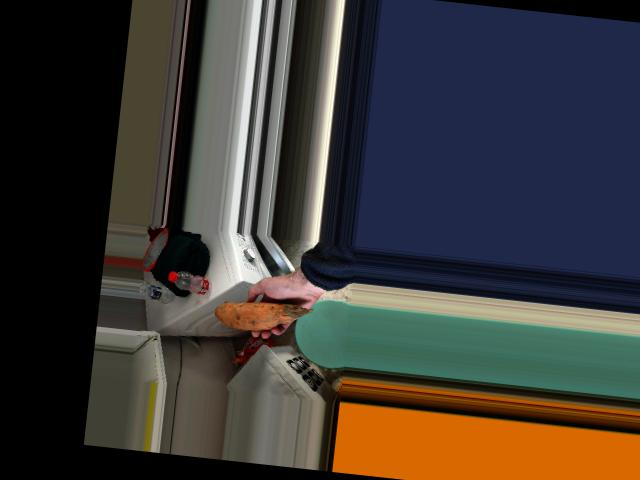sweet_potato: (222, 294, 302, 336)
